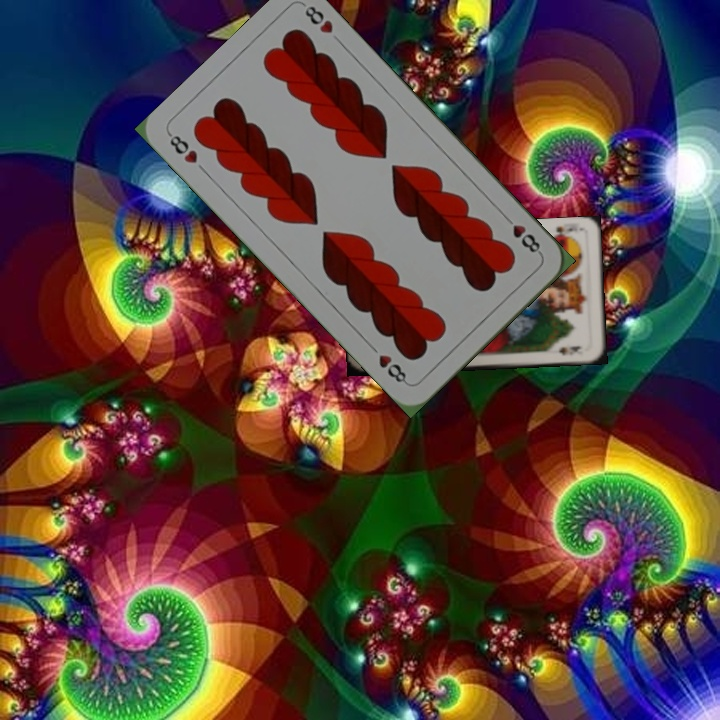H8: (499, 211, 545, 258), (164, 130, 200, 166)
SK: (545, 222, 576, 241)
